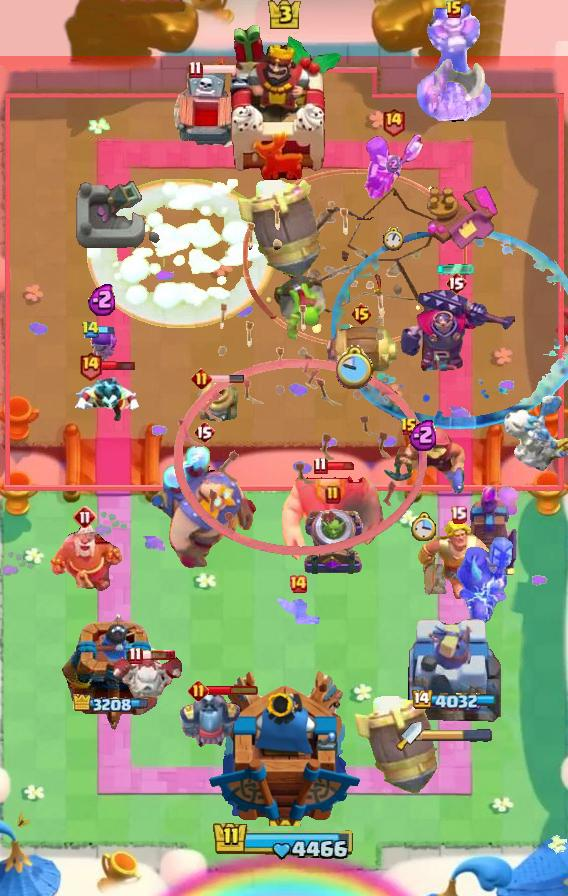balloon: (278, 467, 384, 565)
bar: (405, 611, 501, 731)
bar-level: (271, 273, 329, 345)
barbarian: (273, 594, 323, 624)
clock: (212, 820, 356, 862)
electro-dragon: (415, 0, 493, 128)
electro-spirit: (88, 282, 118, 316), (409, 418, 439, 450), (386, 155, 400, 173)
elixir: (337, 345, 376, 389), (411, 512, 437, 541), (383, 227, 405, 251)
elixir-collector: (46, 519, 124, 593)
elixir-golem-mid: (171, 70, 241, 156)
elixir-golem-small: (178, 688, 242, 750)
emote: (206, 684, 259, 696), (100, 359, 135, 372), (200, 63, 237, 75), (140, 649, 176, 661), (209, 374, 245, 384), (325, 461, 357, 471), (97, 324, 115, 336)
fireball: (380, 424, 468, 496)
fisherman: (421, 564, 453, 594)
goblin: (90, 326, 119, 364)
goblin-cage: (301, 507, 365, 577)
goblin-drill: (193, 377, 239, 423)
goblin-hut: (416, 519, 500, 601)
guard: (243, 168, 467, 347)
ice-spirit: (436, 263, 476, 275)
ice-spirit-evolution-symbol: (460, 485, 520, 577)
inferno-dragon: (456, 535, 514, 629)
inferno-tower: (397, 284, 515, 372)
king-tower: (207, 669, 361, 826), (224, 23, 344, 181)
king-tower-bar: (422, 729, 492, 743)
little-prince: (151, 444, 257, 570)
lumberjack: (70, 369, 144, 427)
mini-pekka: (502, 393, 568, 475), (110, 652, 186, 702)
pad_0: (328, 227, 567, 429)
phoenix-big: (87, 179, 278, 329)
queen-tower: (62, 613, 166, 731)
rascal-boy: (362, 131, 424, 203)
royal-giant: (434, 57, 486, 107)
selected: (410, 690, 496, 712), (73, 694, 155, 716)
skeleton-barrel: (172, 203, 428, 557)
text: (78, 350, 103, 381), (382, 107, 406, 138), (73, 505, 97, 529), (351, 302, 374, 326), (445, 271, 467, 295), (193, 420, 215, 444), (192, 367, 213, 389), (188, 679, 209, 700), (288, 574, 308, 594), (81, 321, 100, 340), (445, 0, 463, 20), (400, 417, 418, 437), (449, 505, 467, 524), (325, 485, 341, 505), (312, 456, 327, 475), (188, 61, 203, 79), (129, 647, 144, 665)
the-log: (323, 327, 399, 377)
x-bow: (238, 180, 323, 279), (353, 696, 438, 795)
